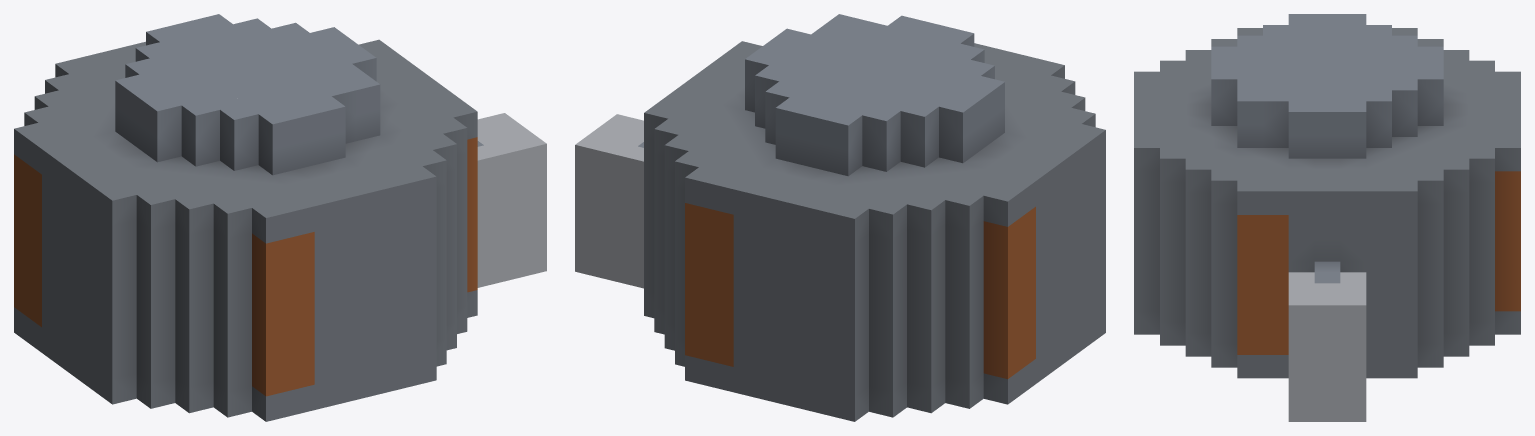
File: eng_hall_s.glb
The picture shows the model from 3 angles, left to right: view 1: azimuth 30°, elevation 25°; view 2: azimuth 150°, elevation 25°; view 3: azimuth 270°, elevation 25°; orthographic projection. The views are drawn at different scales.
Parts seen in each view (by area): view 1: eng_hall_s; view 2: eng_hall_s; view 3: eng_hall_s.
Boxes of the visible parts, bbox=[...] form: eng_hall_s: bbox=[14, 14, 546, 421]; eng_hall_s: bbox=[575, 14, 1105, 421]; eng_hall_s: bbox=[1134, 14, 1520, 421].
Bounding box in the file's own units: 0.2969 × 0.1562 × 0.2344.
